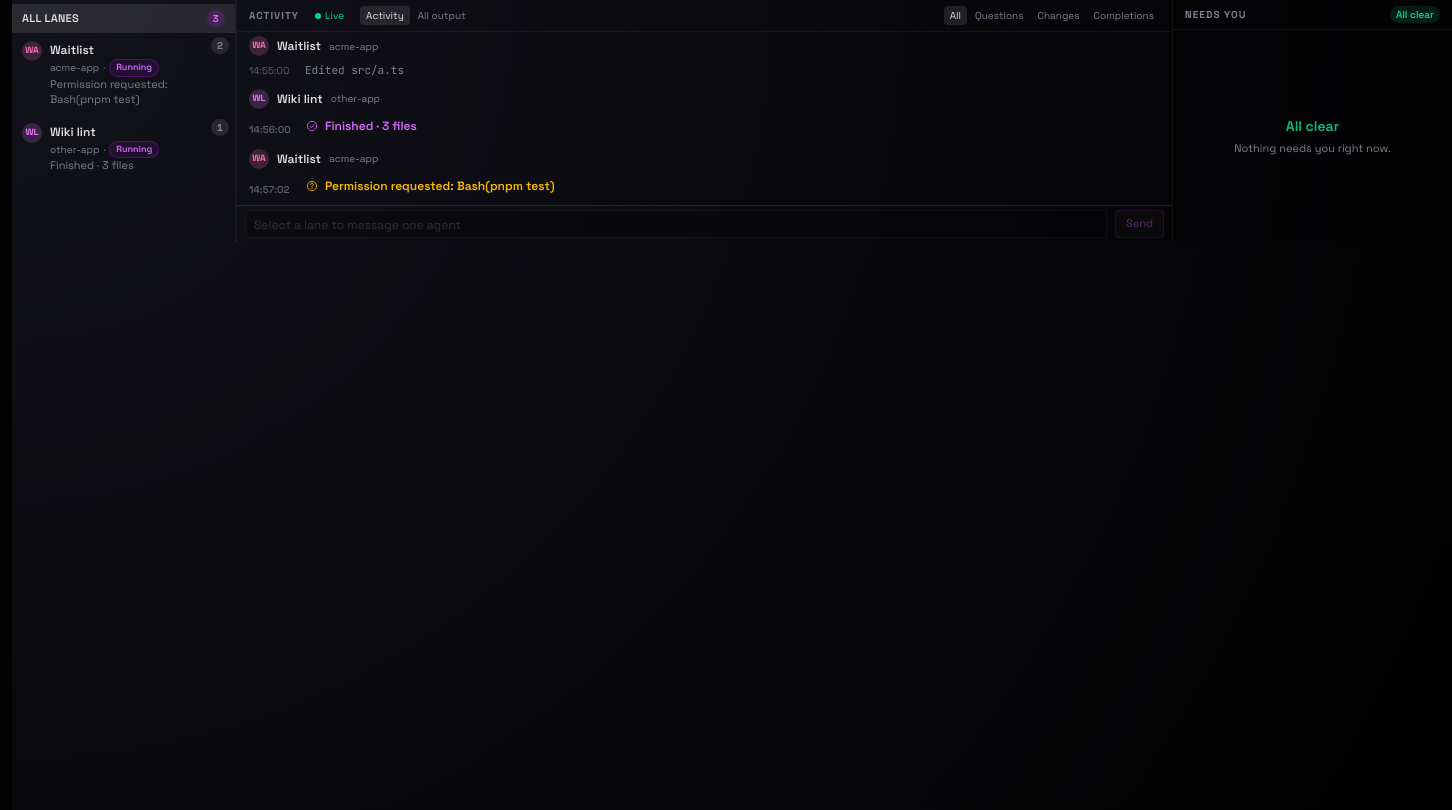
Test case: ActivityFeed mode › switches to the raw output stream and shows lines no matcher recognised
What coordinates should you click on to do the following:
click the button "All output"
I would click on:
 (442, 16)
Its box is [412, 6, 472, 25].
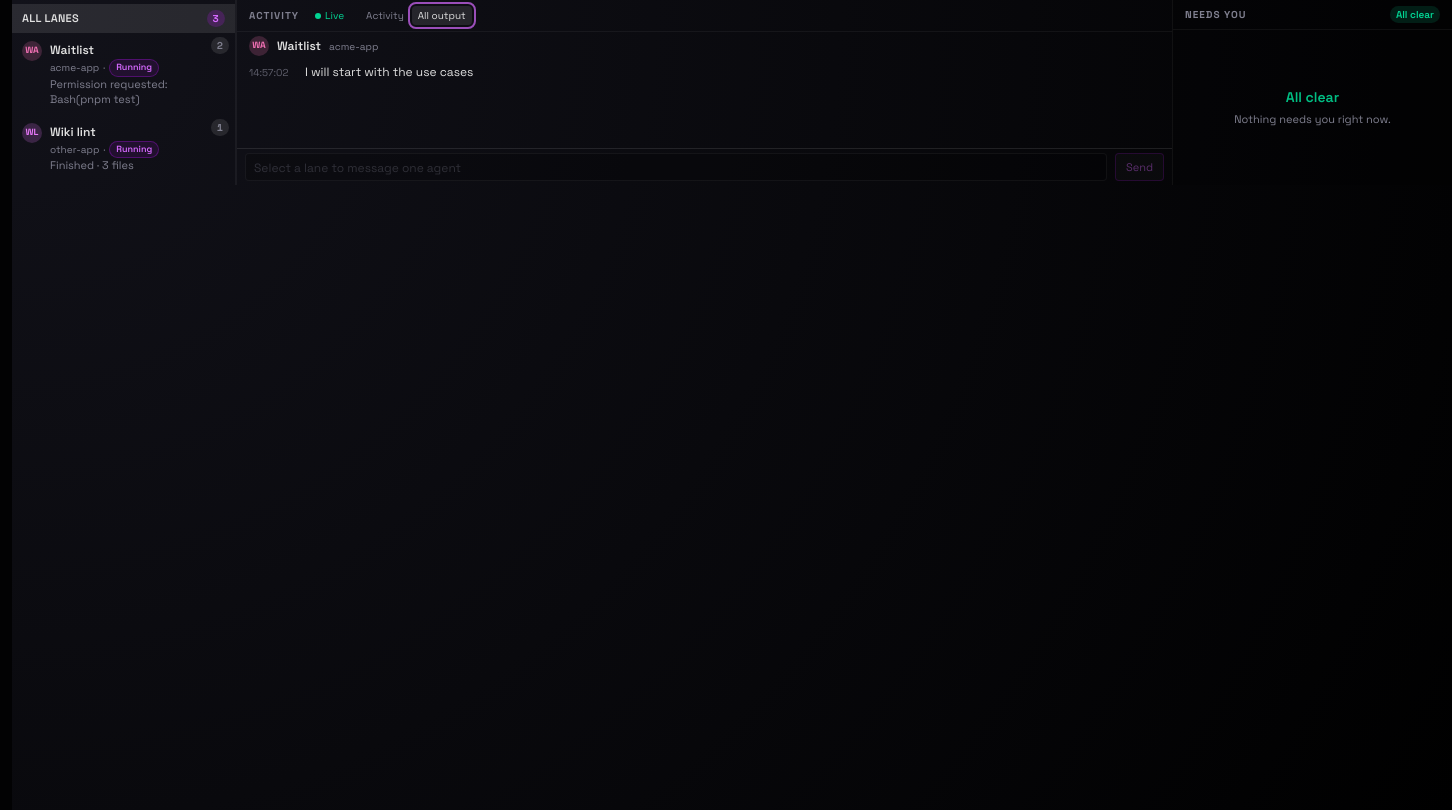
Check: the text "I will start with the use cases" is shown, box [305, 64, 474, 80]
